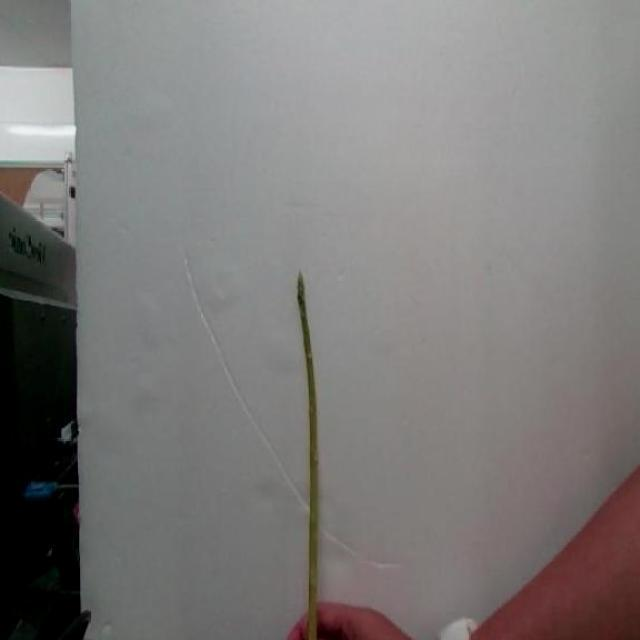aspargus: (296, 274, 321, 640)
